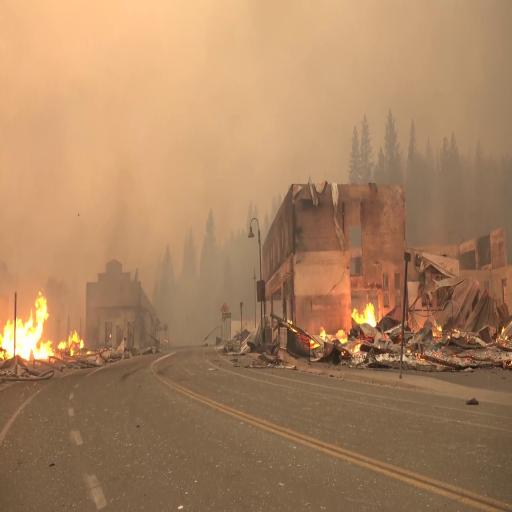fire: (1, 304, 58, 372), (352, 294, 382, 324)
